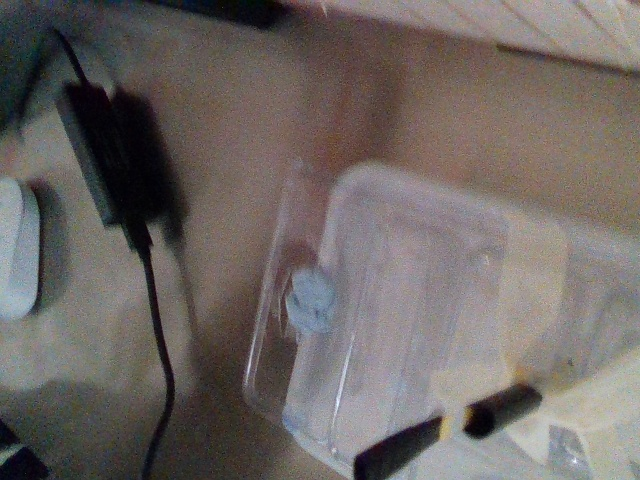test_strip: (352, 407, 474, 477)
